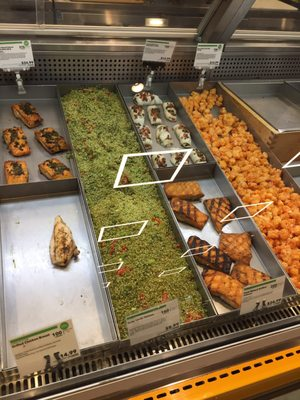sandwich: (38, 158, 74, 180)
